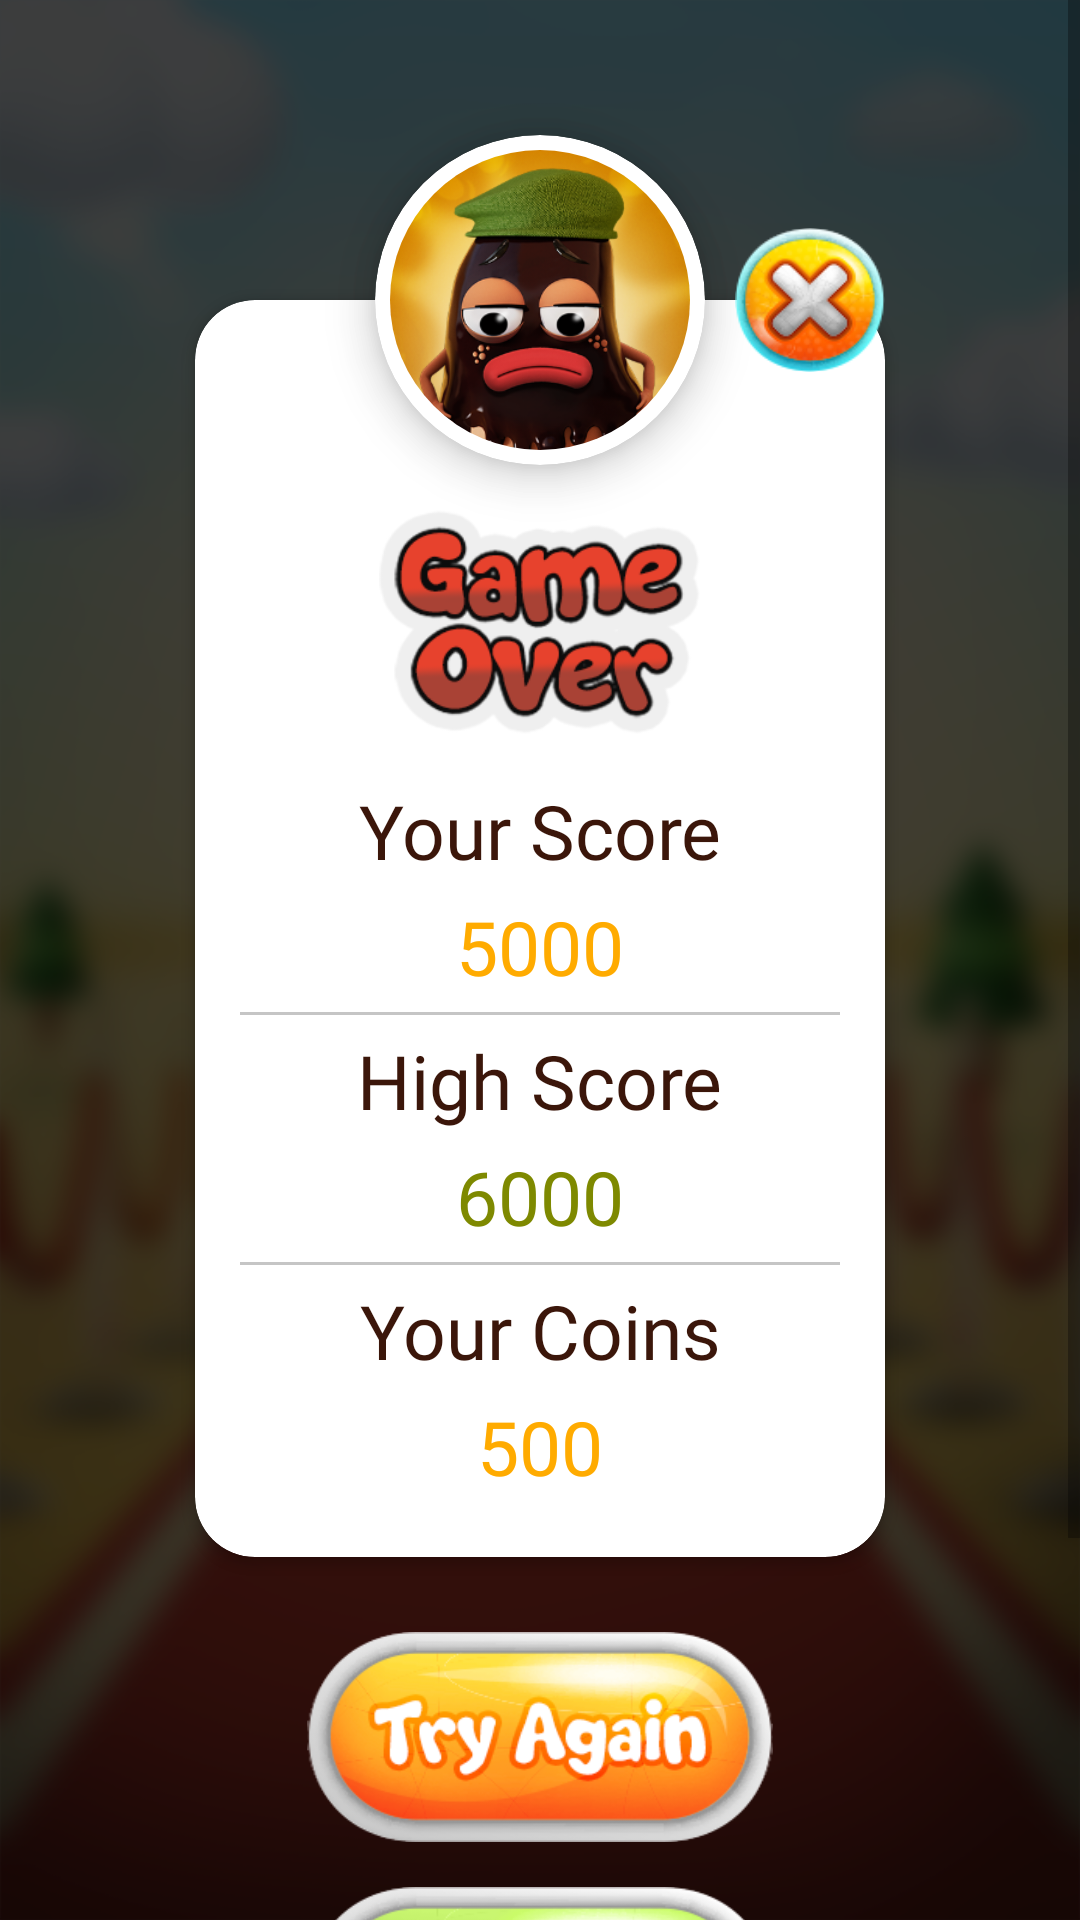

Point at icon controls on the screen. Image size 1080px×1920px, points as (x=x, y=y).
exit: (x=810, y=300)
sad moodo: (x=540, y=300)
